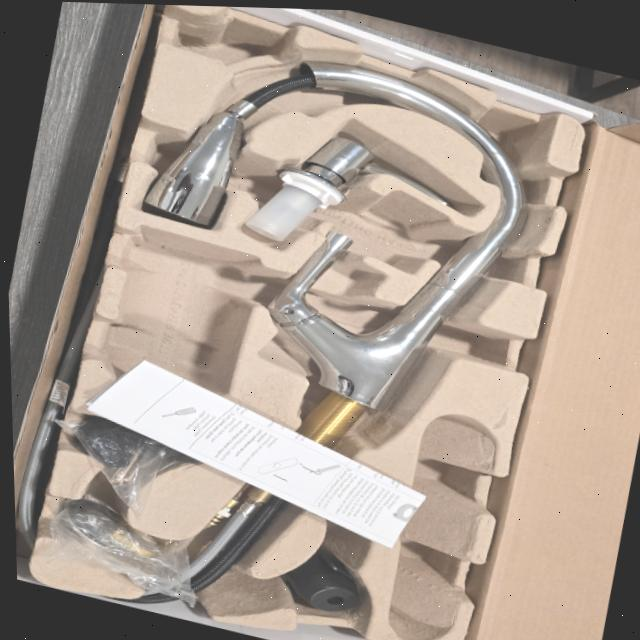1o: (139, 58, 525, 602)
2: (243, 133, 449, 240)
3m: (108, 227, 255, 417)
4m: (387, 414, 497, 640)
5: (282, 546, 364, 609)
6: (43, 490, 202, 608)
7o: (46, 409, 230, 517)
8: (85, 358, 427, 548)
